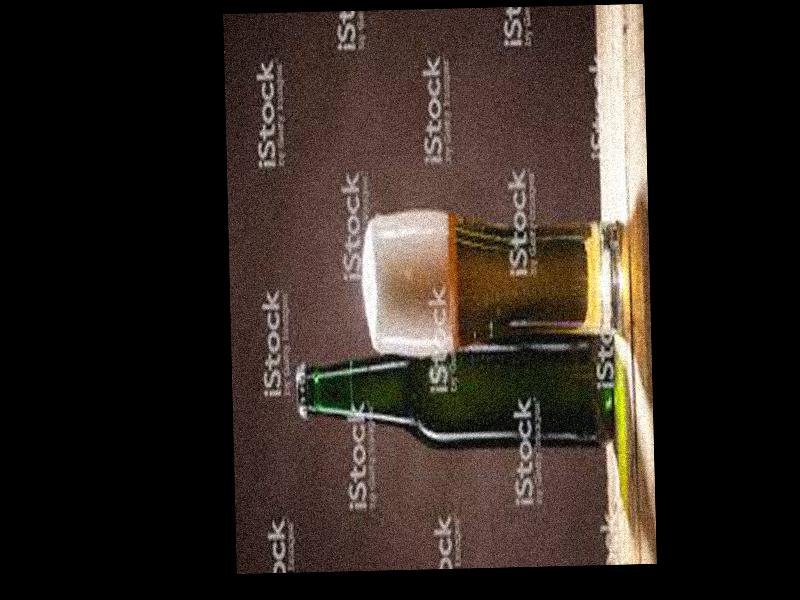Beer: (295, 331, 617, 455)
